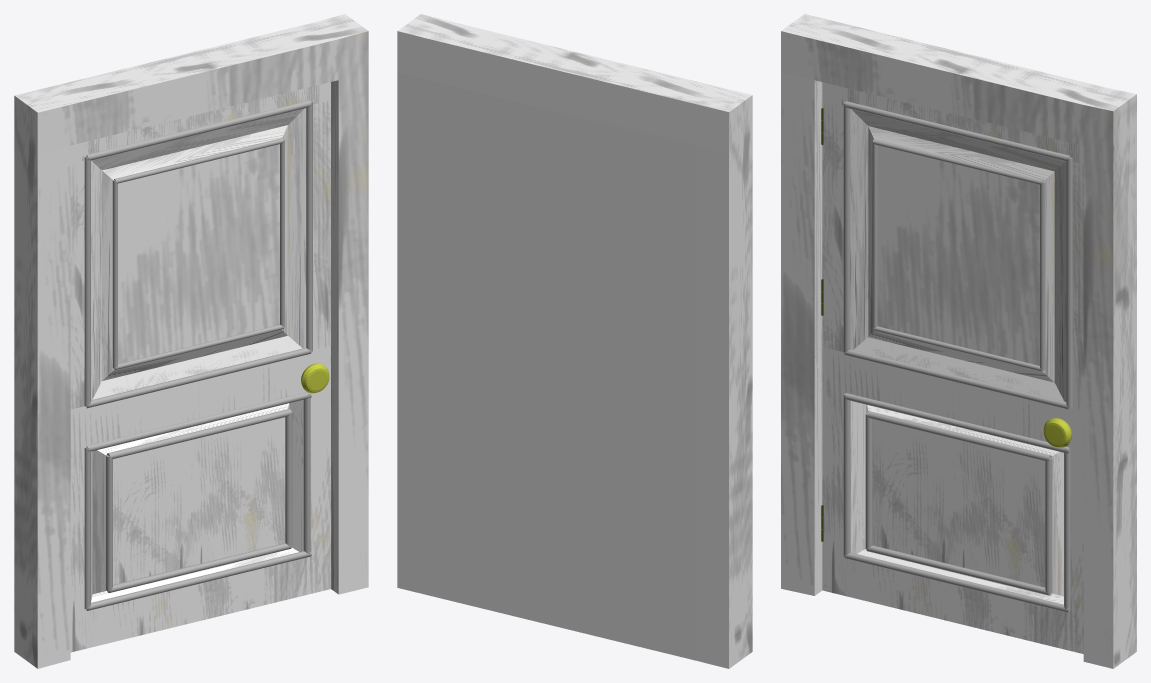
Rendered from door1.fbx.
3 renders of one model, left to right at view 1: azimuth 30°, elevation 25°; view 2: azimuth 150°, elevation 25°; view 3: azimuth 330°, elevation 25°, orthographic.
Parts seen in each view (by area): view 1: Door; view 2: Door; view 3: Door.
Part boxes in pixels (bbox=[...]): Door: bbox=[14, 14, 368, 668]; Door: bbox=[397, 14, 752, 668]; Door: bbox=[781, 14, 1136, 668].
Size of the model in its own units: 81.74 by 131 by 11.75.
Materials: 4 (1 with a texture image).
